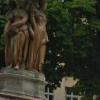Statue: (2, 5, 52, 68)
